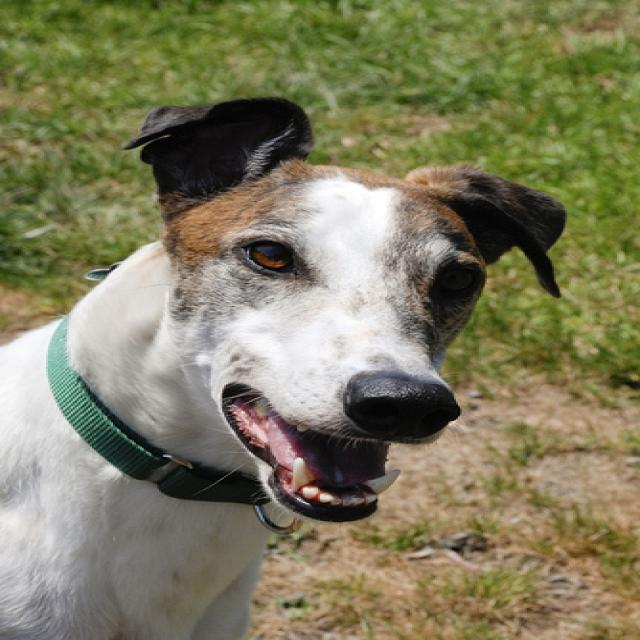dog: (1, 98, 582, 640)
